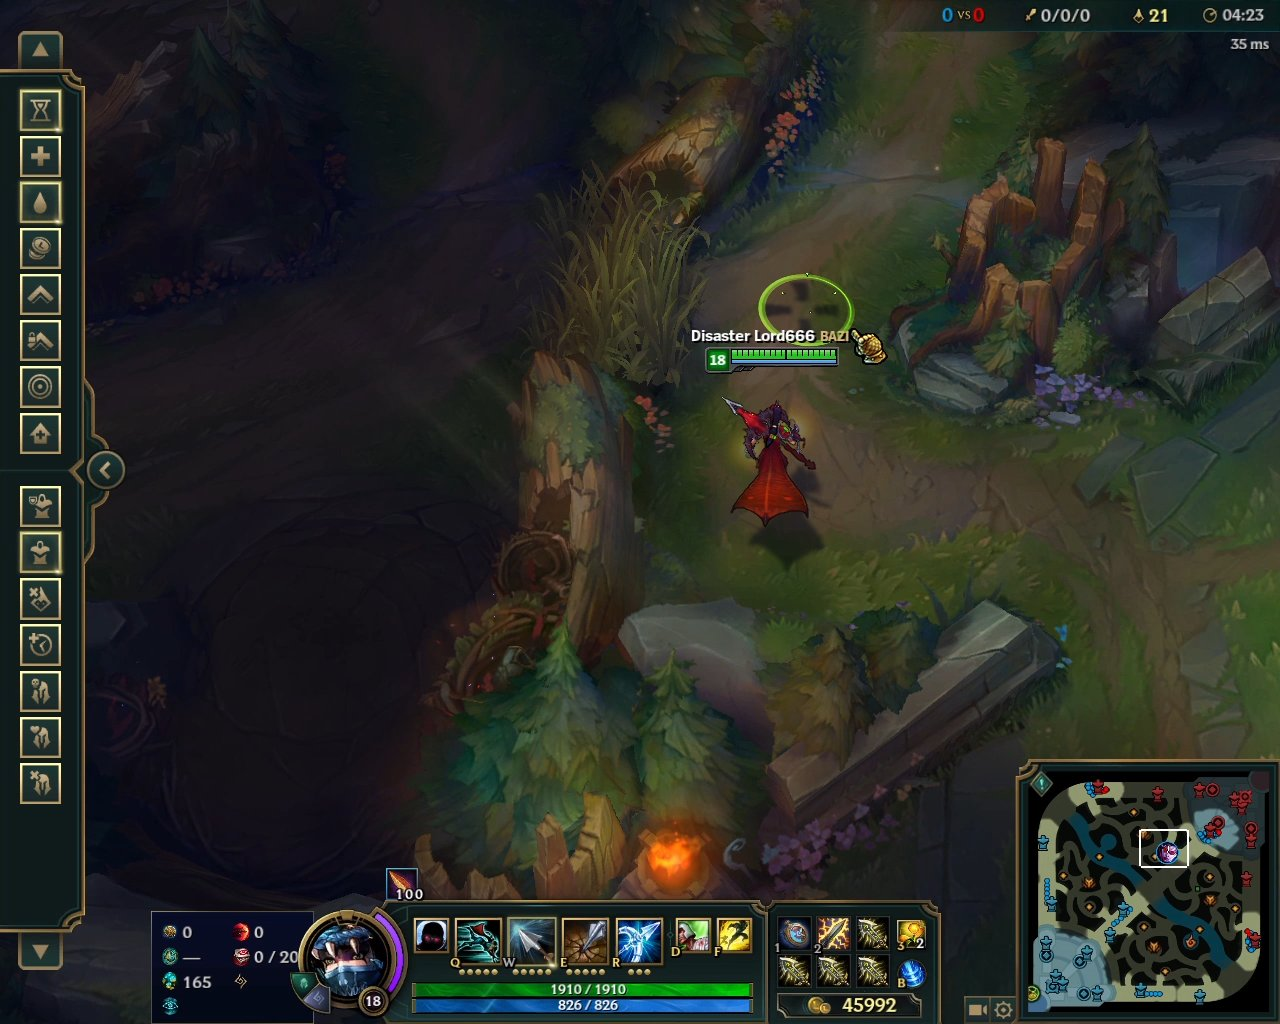Vayne: (717, 388, 827, 540)
